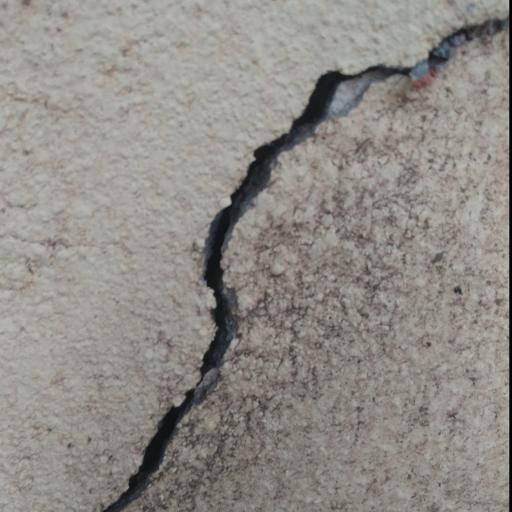major_crack: (94, 0, 504, 512)
